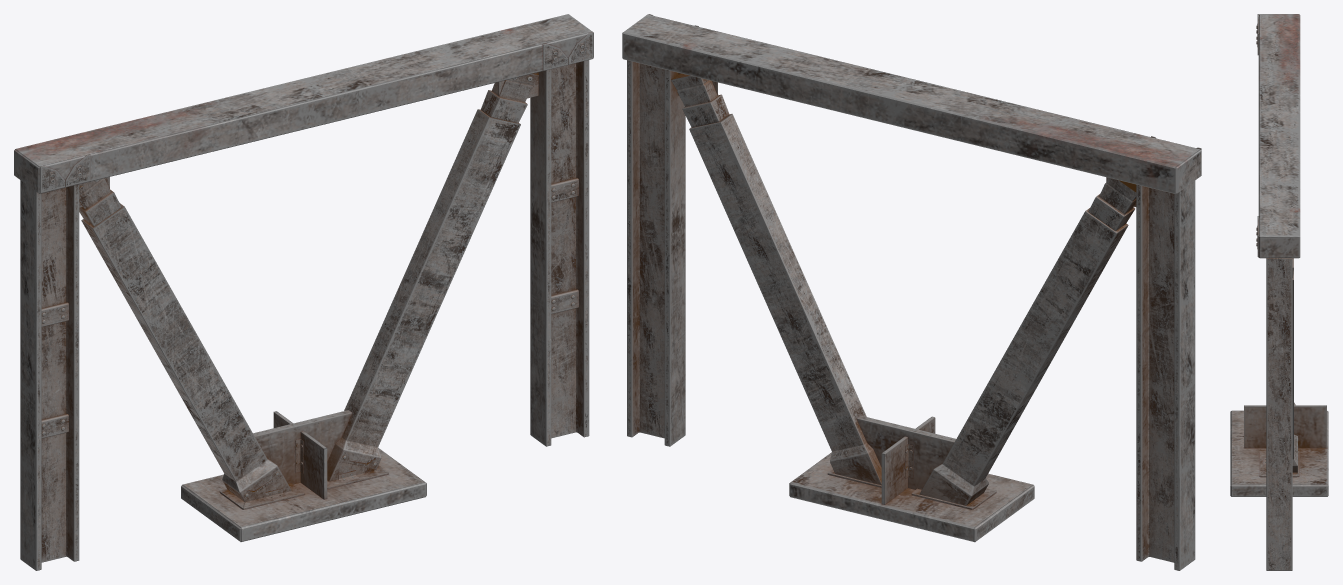
Rendered from construction_colum_set_1.glb.
3 renders of one model, left to right at view 1: azimuth 30°, elevation 25°; view 2: azimuth 150°, elevation 25°; view 3: azimuth 270°, elevation 25°, orthographic. The views are drawn at different scales.
Visible parts, largest first — view 1: Column_01; view 2: Column_01; view 3: Column_01.
Boxes of the visible parts, <box> form: Column_01: <box>14,14,593,570</box>; Column_01: <box>622,14,1201,570</box>; Column_01: <box>1230,14,1328,570</box>.
Size of the model in its own units: 8.83 by 6.2 by 1.65.
Materials: 1 (1 with a texture image).
